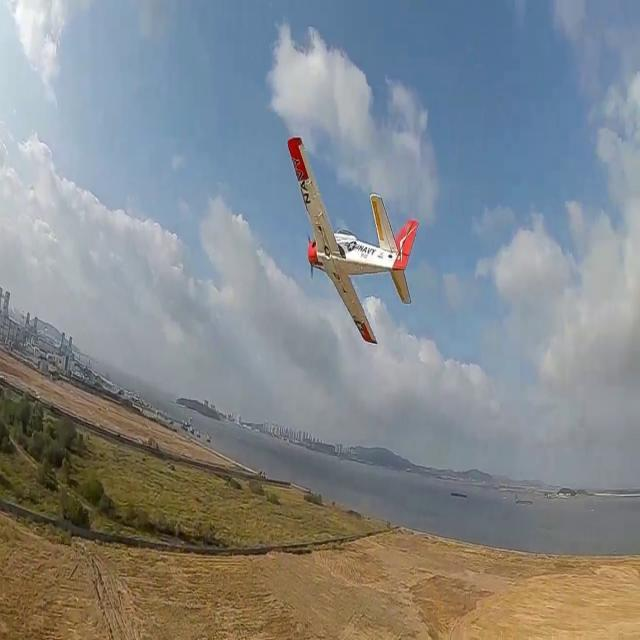iha: (287, 131, 415, 347)
